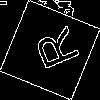R: (25, 25, 81, 76)
